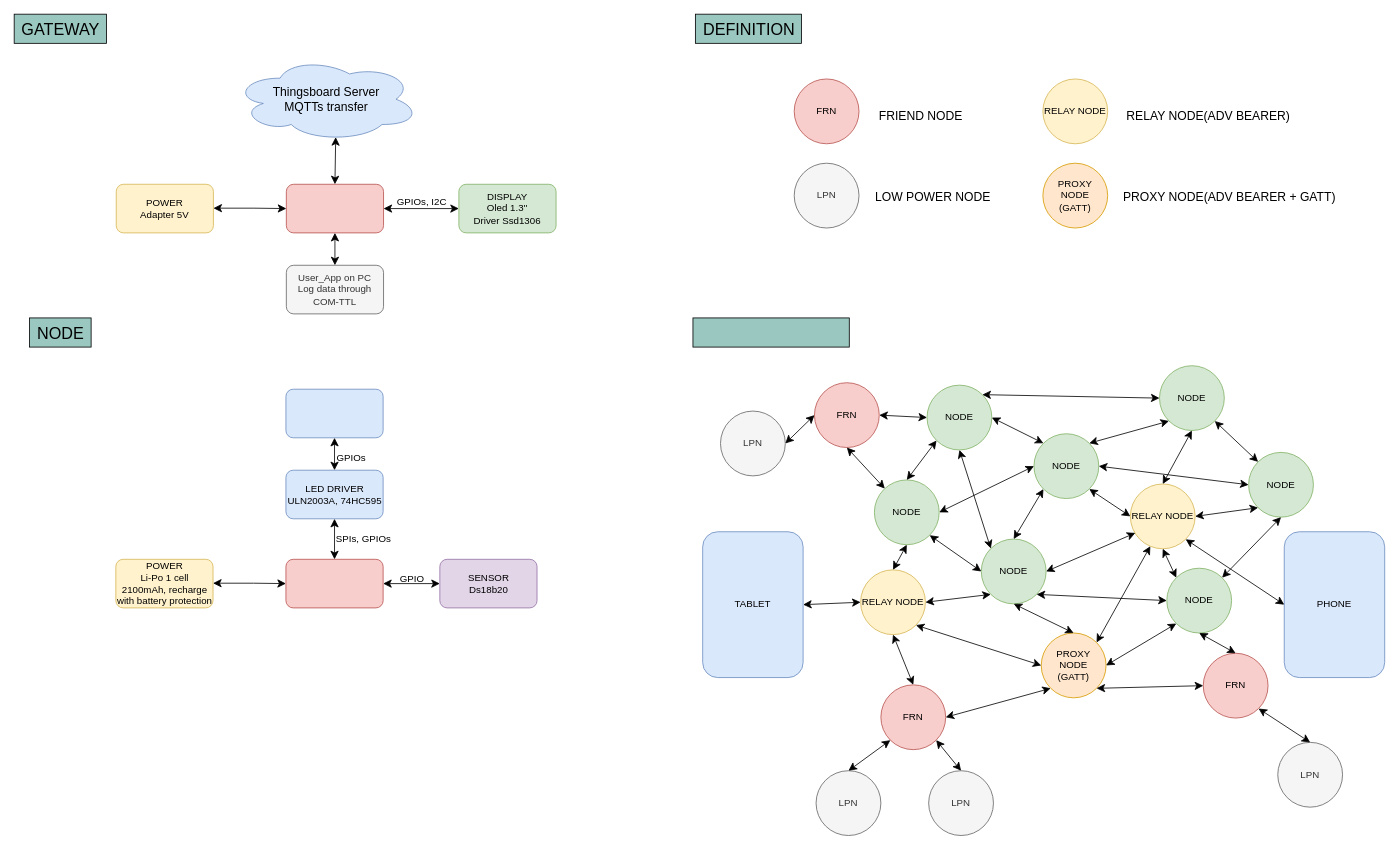
Image size: 1399x850. Some labels were removed from this diagram. Each missing label, with the centre of its shape:
"DISPLAY 4 Led 7 segments" goes at point 334,413.
"MCU ESP32" goes at point 335,208.
"MCU NRF52832" goes at point 334,583.
"MESH TOPOLOGY" goes at point 770,332.
